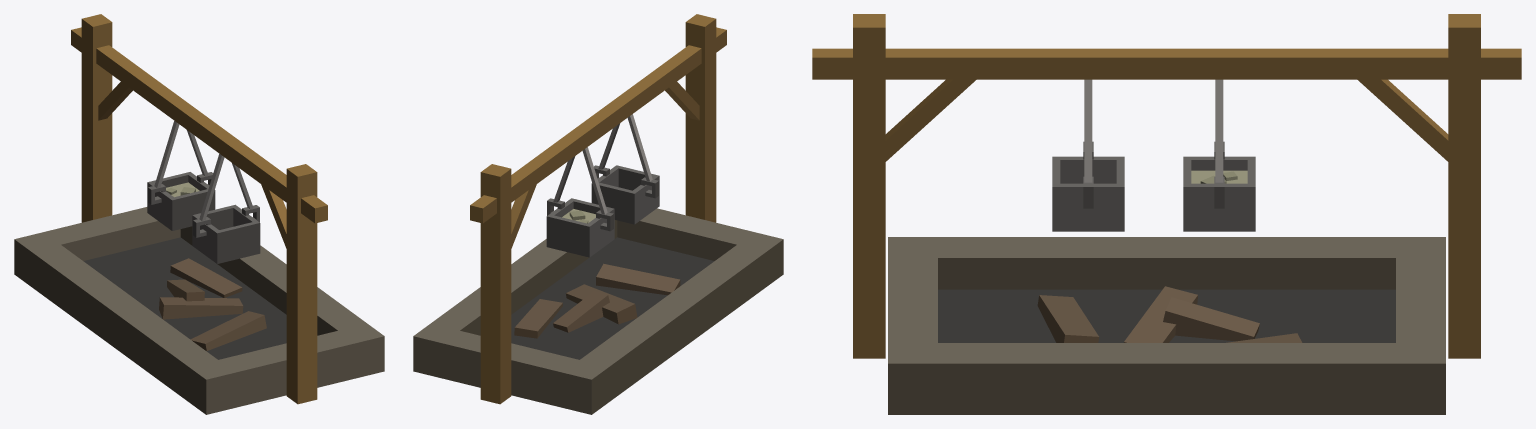
Rendered from SM_Prop_Fireplace_02.glb.
3 renders of one model, left to right at view 1: azimuth 30°, elevation 25°; view 2: azimuth 150°, elevation 25°; view 3: azimuth 270°, elevation 25°, orthographic. The views are drawn at different scales.
Parts seen in each view (by area): view 1: SM_Prop_Fireplace_02; view 2: SM_Prop_Fireplace_02; view 3: SM_Prop_Fireplace_02.
Part boxes in pixels (box(x1,y1,x2,y2)): SM_Prop_Fireplace_02: box(14, 14, 384, 414); SM_Prop_Fireplace_02: box(413, 14, 783, 414); SM_Prop_Fireplace_02: box(812, 14, 1521, 414).
Size of the model in its own units: 0.0255 by 0.0318 by 0.0604.
Materials: 1 (1 with a texture image).
